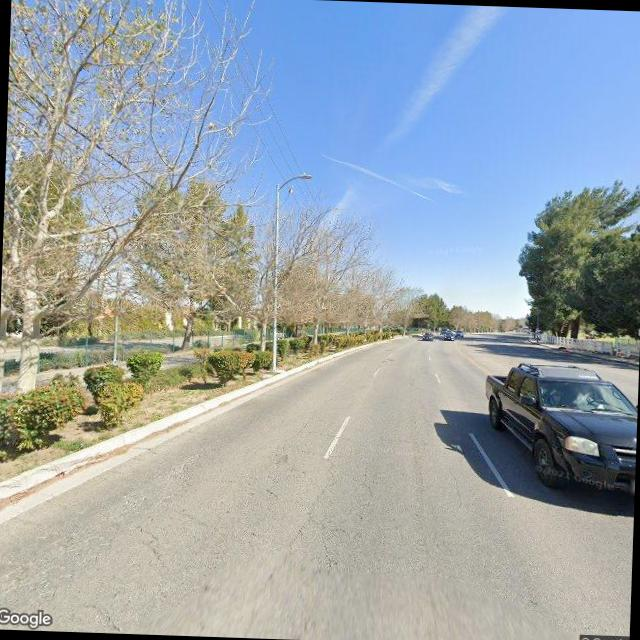crack: (256, 429, 366, 569), (444, 466, 465, 510)
